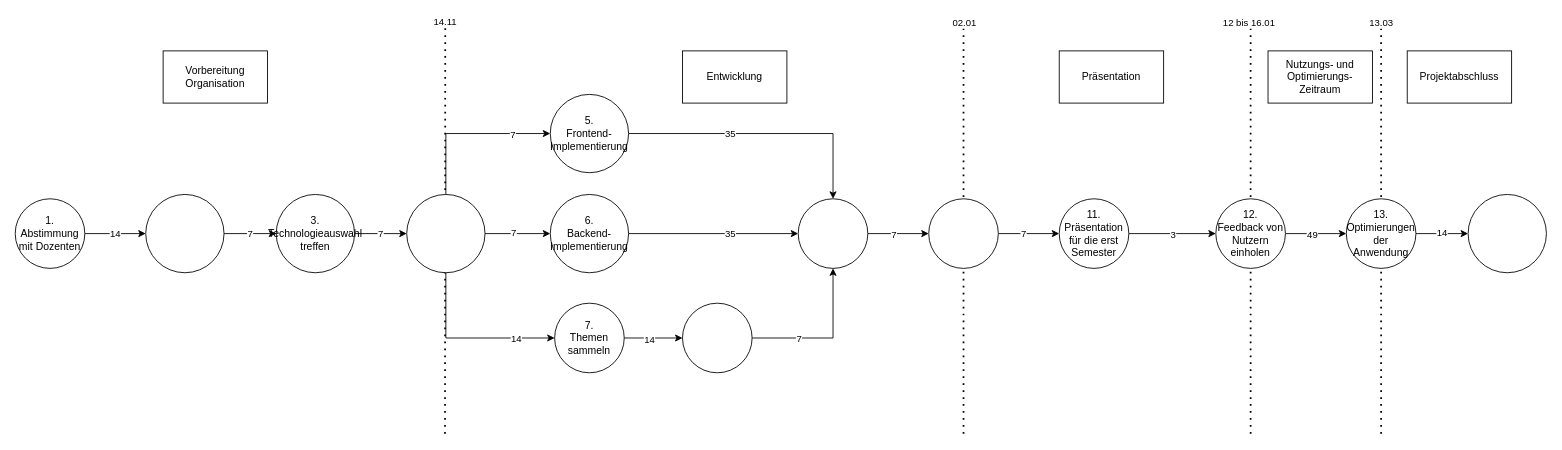
This 1562x450 diagram has some shape labels left out. The box of each missing label's shape, as (x1, y1, x2, y2) in pixels:
10. Entwicklung fertigstellen: (928, 198, 998, 268)
14. Abschlussbericht erstellen: (1467, 194, 1546, 273)
2. Teamorganisation klären: (145, 194, 224, 273)
4. Use Cases und Funktionsumfang: (406, 194, 485, 273)
8. Lernmethoden festlegen: (682, 302, 752, 373)
9. Feedback vom Dozenten einholen: (797, 198, 868, 268)
